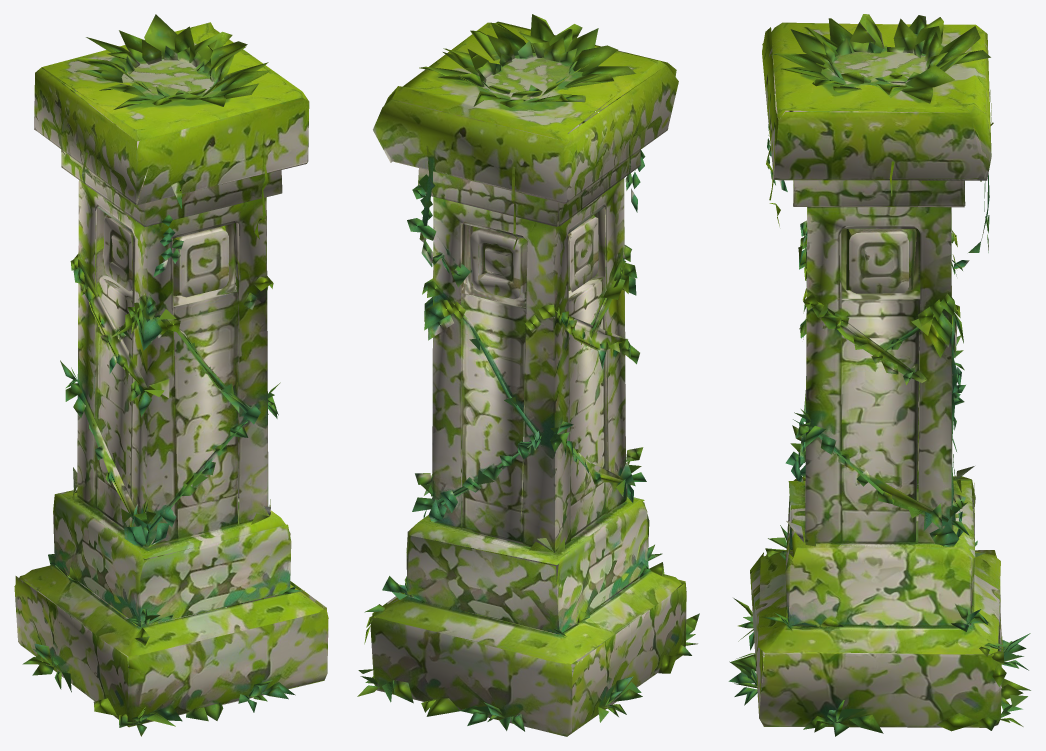
File: Pillar.fbx
3 views of the same model, side by side, from view 1: azimuth 30°, elevation 25°; view 2: azimuth 150°, elevation 25°; view 3: azimuth 270°, elevation 25° (orthographic). The views are drawn at different scales.
Visible parts, largest first — view 1: Pillar; view 2: Pillar; view 3: Pillar.
Part boxes in pixels (left/top/right/bottom): Pillar: left=14, top=14, right=328, bottom=736; Pillar: left=357, top=14, right=699, bottom=736; Pillar: left=728, top=14, right=1030, bottom=736.
Bounding box in the file's own units: 1.48 × 3.6 × 1.55.
1 material, 1 textured.
